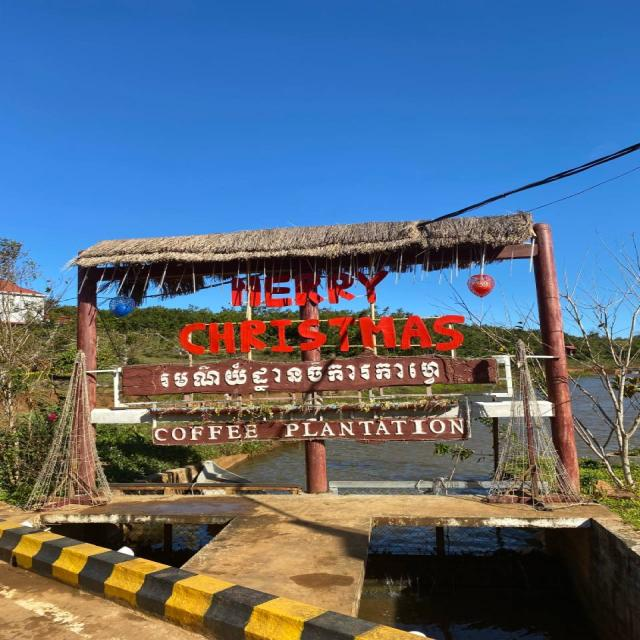Yolov11_80vkh: (153, 356, 455, 397)
